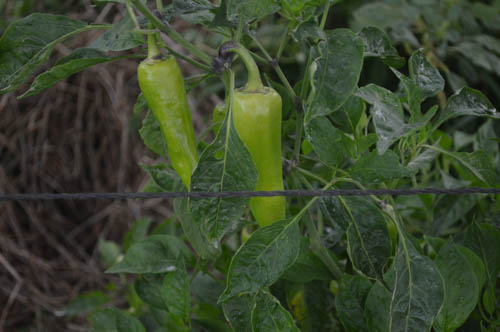ChiliPepper: (231, 89, 288, 221), (142, 59, 197, 180)
